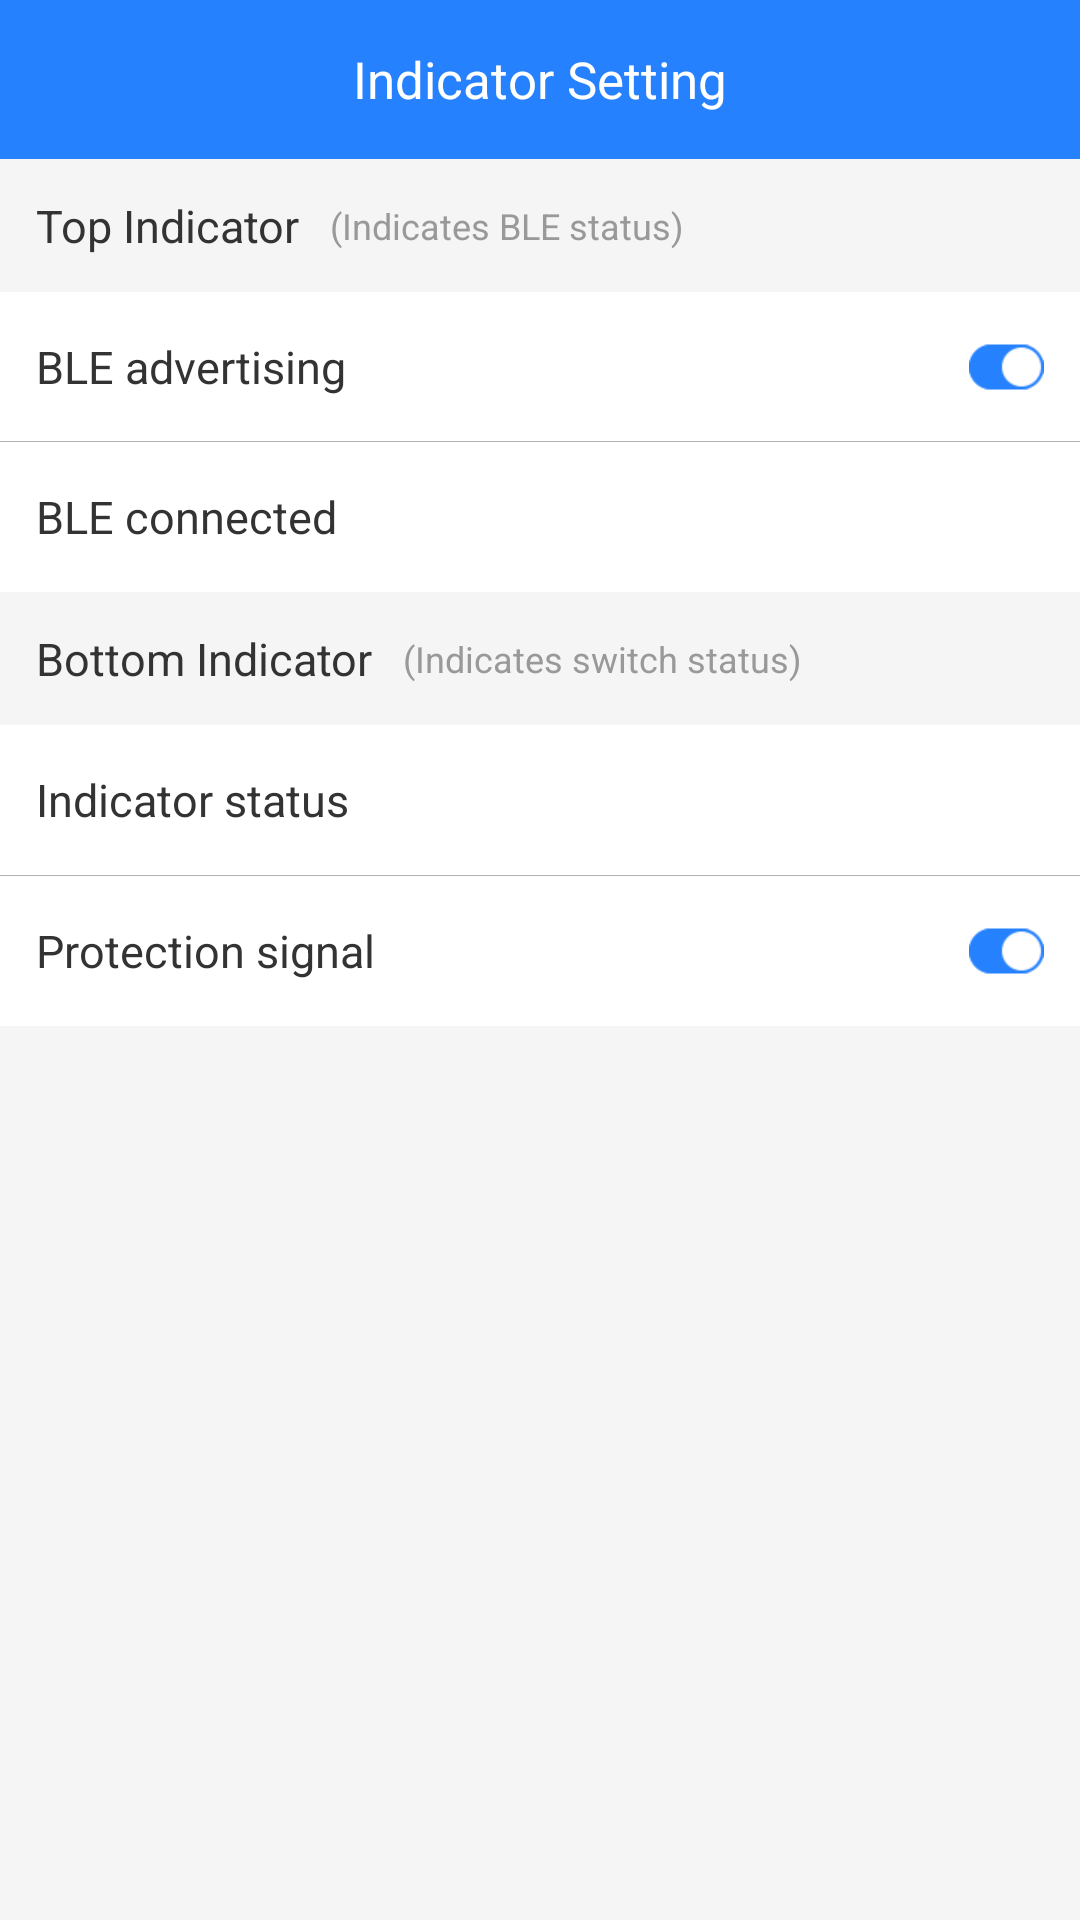

Where to tap for icons on this 1080×1920 app screen, as point (x, y):
checked: point (1006, 367), point (1006, 951)
